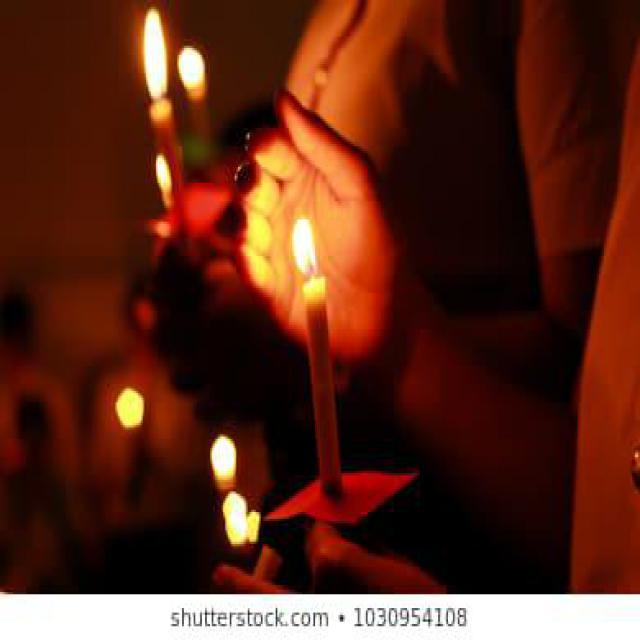Fire: (142, 10, 170, 104), (291, 217, 318, 281)
